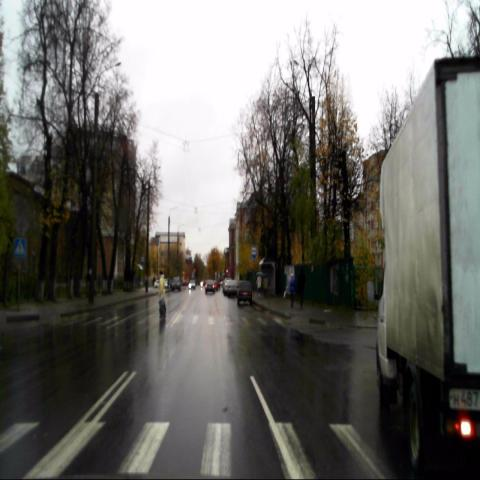5_19_1: (14, 238, 26, 258)
